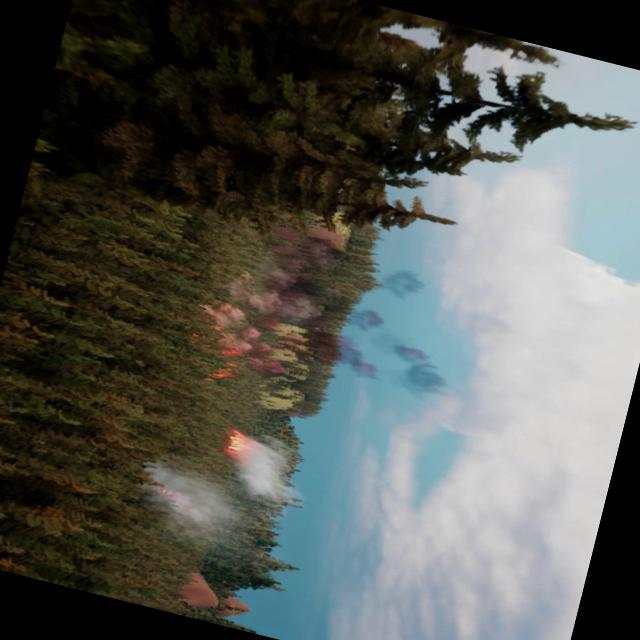fire: (226, 431, 248, 457)
smoke: (196, 219, 480, 430), (126, 451, 254, 546), (213, 430, 305, 510)
